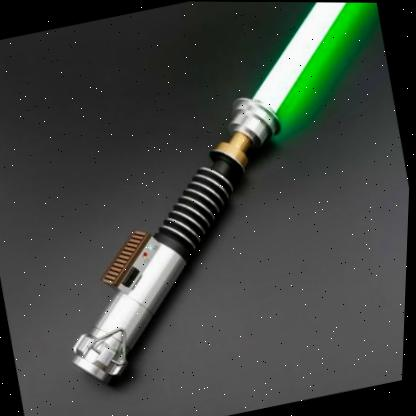lightsaber: (1, 0, 416, 397)
